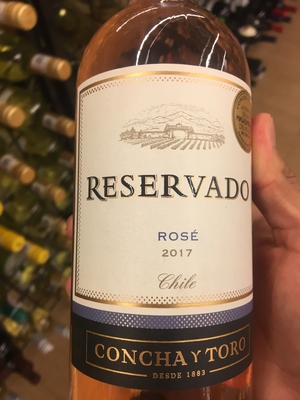reservado rose: (69, 6, 253, 400)
